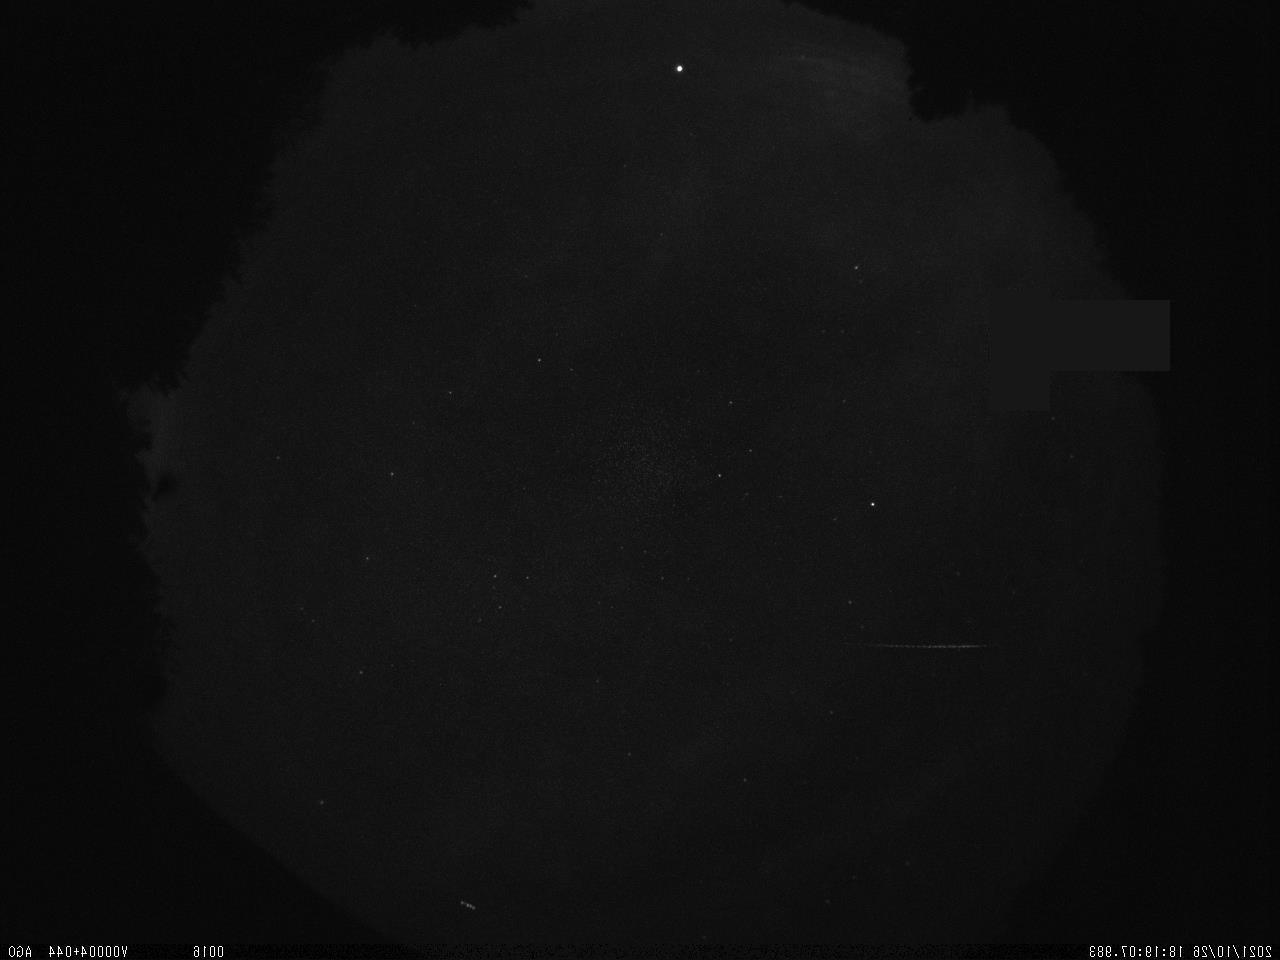meteor: (837, 625, 1011, 660)
